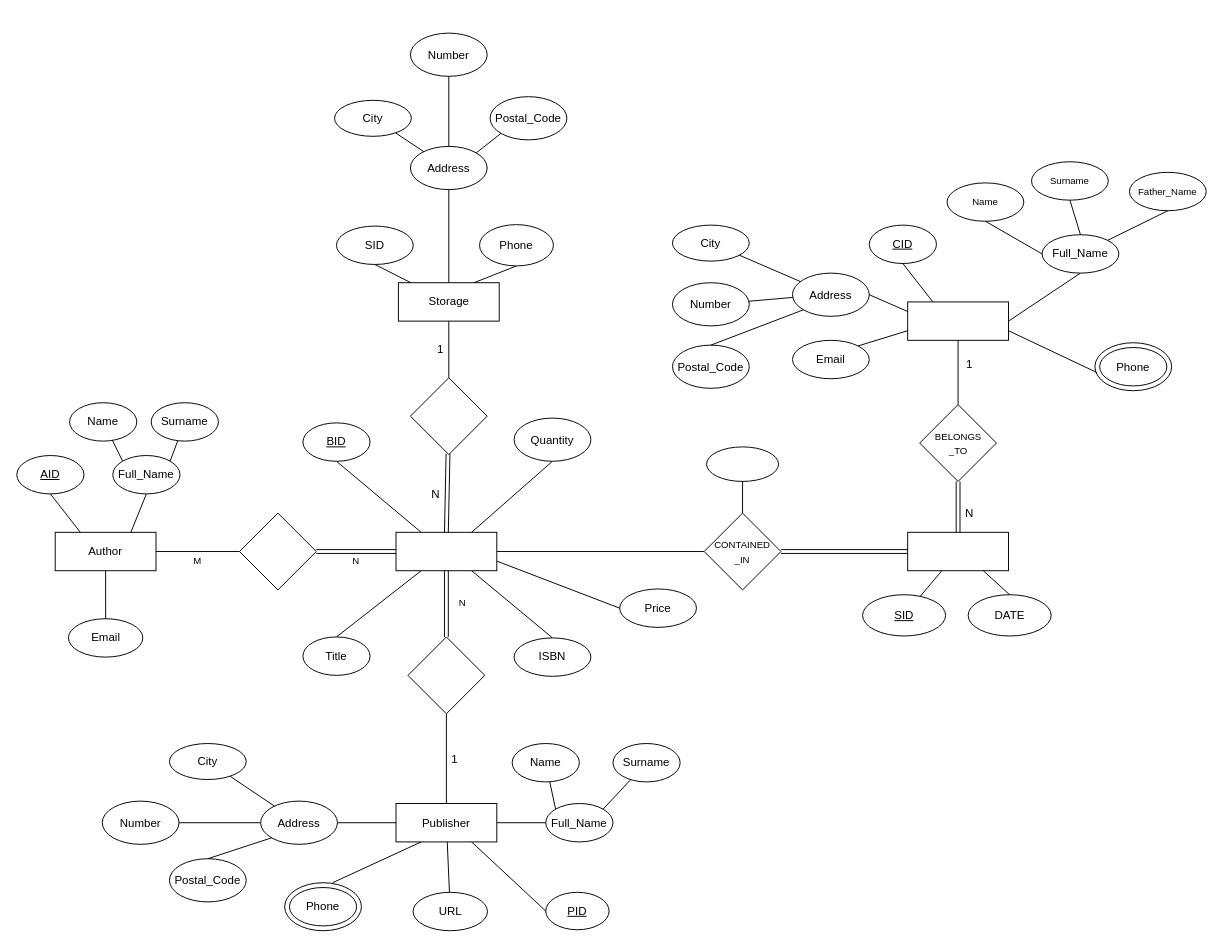
Some shapes in this 1223 by 948 pixel diagram are drawn without their labels. Here are the shapes that lost their labels. From the top down, the box of each, then its label:
(907, 301, 1008, 340): Customer
(409, 377, 487, 455): STORED _AT
(706, 446, 779, 481): Discount
(239, 512, 316, 590): WRITTEN _BY
(395, 531, 497, 571): Book
(907, 531, 1008, 571): Shopping_Cart
(407, 636, 485, 714): PUBLISHED _BY
